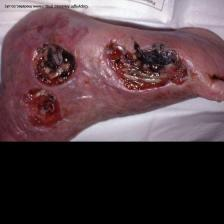Wound: (99, 35, 197, 99), (19, 82, 78, 130), (29, 39, 82, 88)
